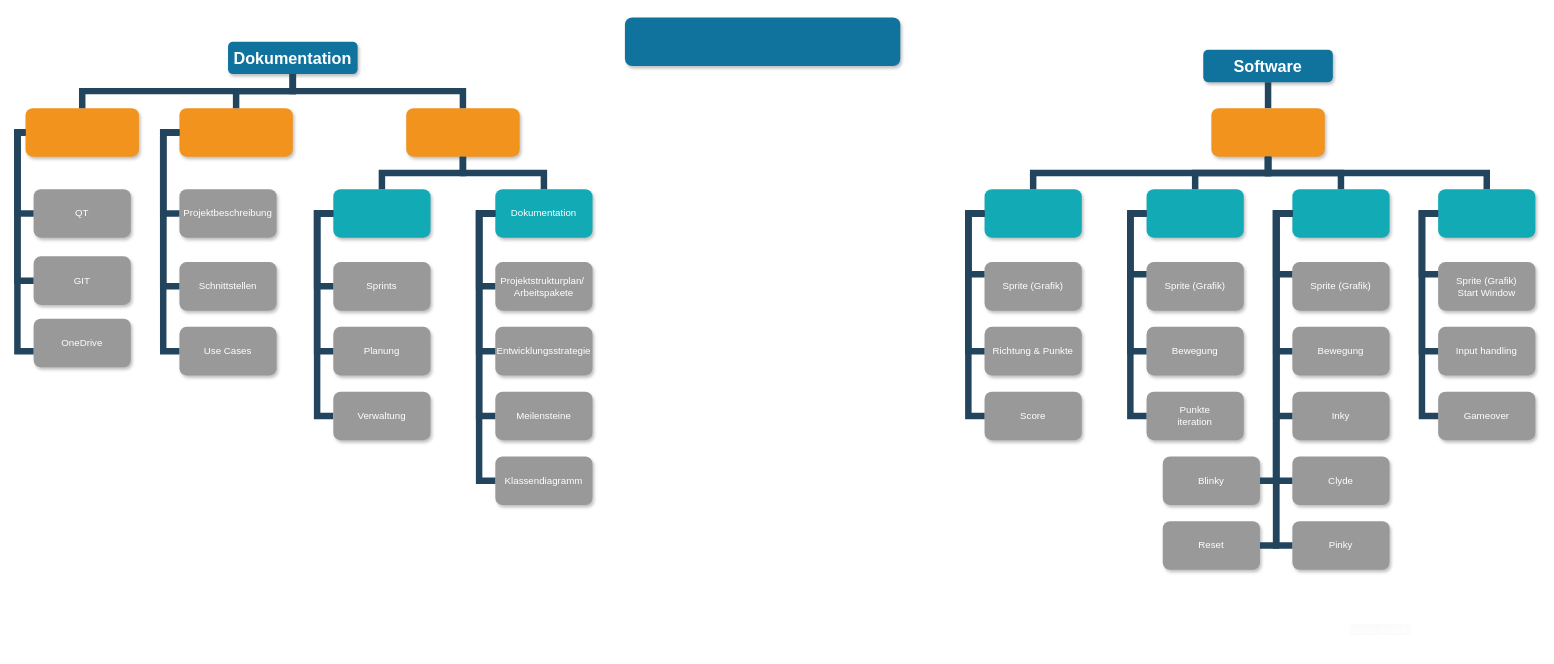
The diagram is 1554 pixels wide and 664 high, and some of its shapes have lost their labels. The shapes that lost their labels are listed below. From the top down, each one's centre as x and y in pixels, then its label:
point 763,42: Pac-Man
point 82,133: Einrichten
point 236,133: Pflichtenheft
point 463,133: Projektplan
point 1268,133: Coden
point 382,214: Jira
point 1033,214: Class Maze
point 1195,214: Class Player
point 1341,214: Class Ghost
point 1487,214: Class PacMan
